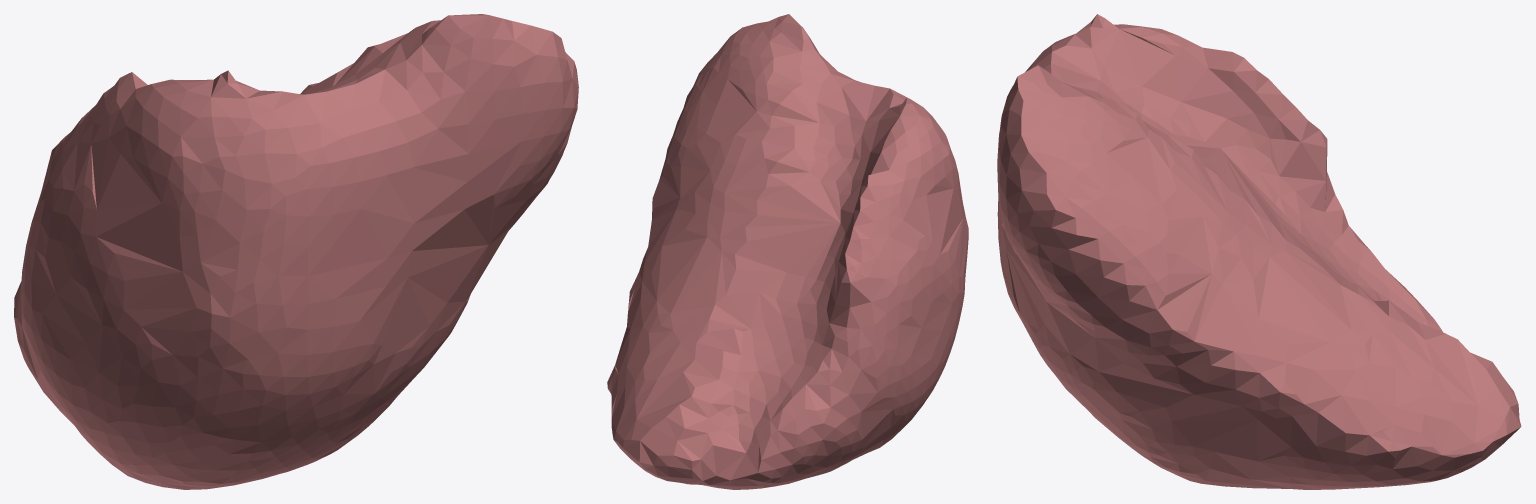
File: Model_526_RH__Reticulotegmental_nucleus_of_the_pons_(RtTg).obj
The picture shows the model from 3 angles, left to right: view 1: azimuth 30°, elevation 25°; view 2: azimuth 150°, elevation 25°; view 3: azimuth 270°, elevation 25°; orthographic projection. The views are drawn at different scales.
Size of the model in its own units: 1.61 by 1.8 by 1.91.
